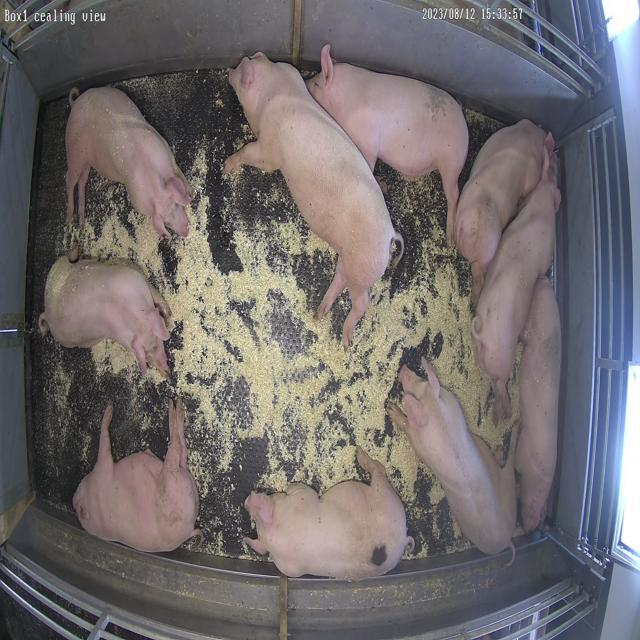Pig: (224, 52, 396, 346), (307, 45, 470, 242), (389, 362, 517, 554), (245, 449, 413, 580), (73, 401, 199, 553), (474, 175, 562, 384), (456, 119, 554, 298), (516, 275, 563, 532)
